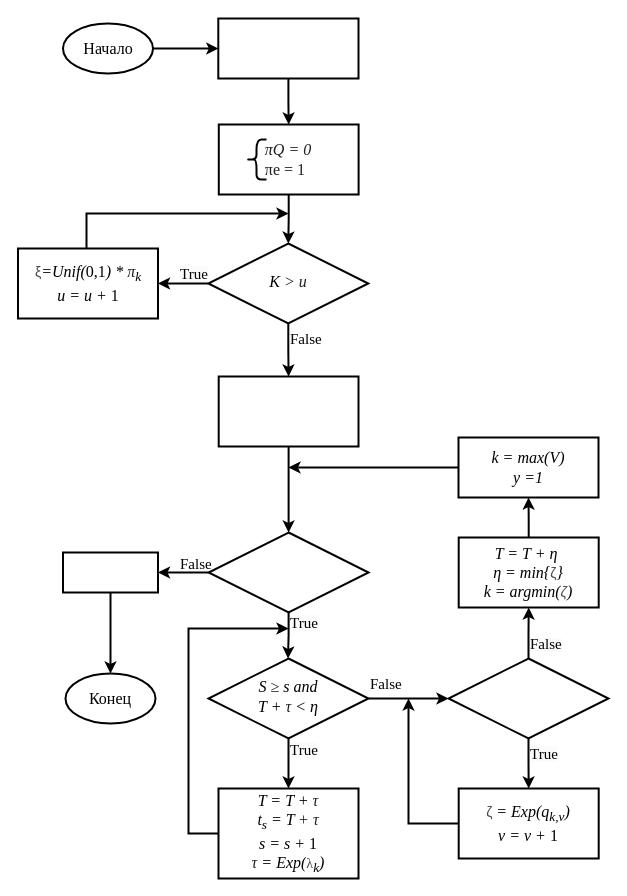
This 627x896 diagram has some shape labels left out. The shapes that lost their labels are listed below. From the top down, each one's box as (x1, y1, x2, y2) in pixels, then its label:
(217, 17, 359, 79): Q, Λ , S, K
(217, 375, 359, 447): k = argmax( ξ u ) η = Exp( q k,k )
(62, 551, 158, 593): t 1 ,t 2 ,...,t S
(207, 531, 369, 613): S ≥ s
(447, 657, 609, 739): K > v
